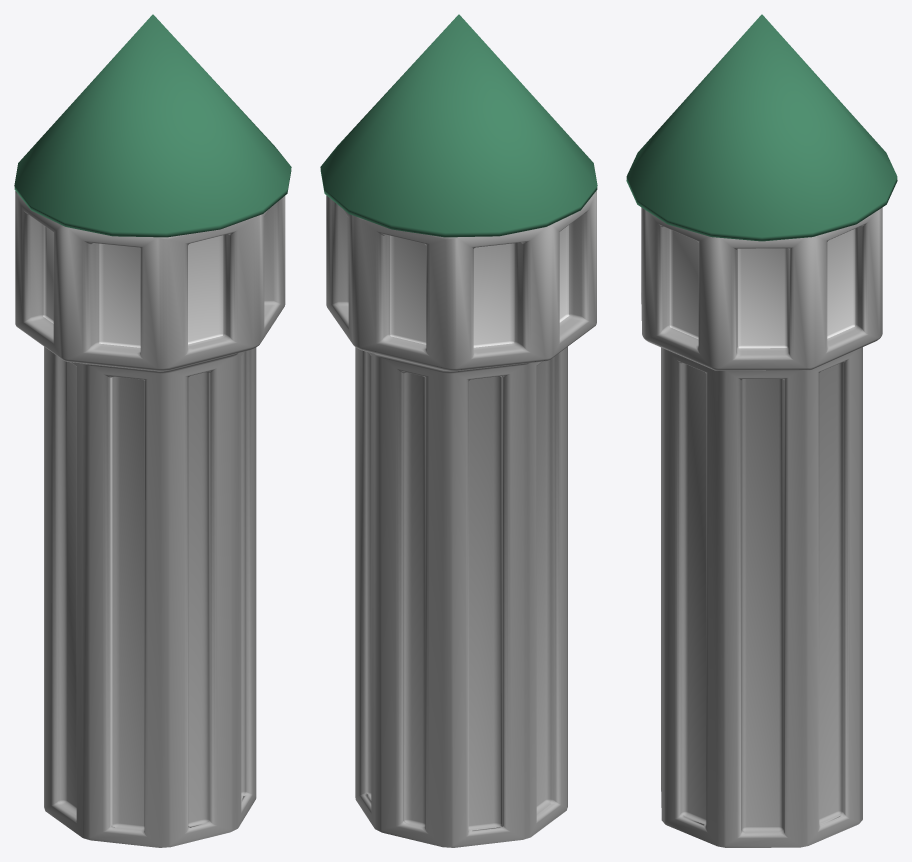
The model's file is Torre1.fbx.
The picture shows the model from 3 angles, left to right: view 1: azimuth 30°, elevation 25°; view 2: azimuth 150°, elevation 25°; view 3: azimuth 270°, elevation 25°; orthographic projection.
Visible parts, largest first — view 1: Torre delgada.005; view 2: Torre delgada.005; view 3: Torre delgada.005.
Part boxes in pixels (box(x1,y1,x2,y2)): Torre delgada.005: box(14, 14, 291, 847); Torre delgada.005: box(320, 14, 597, 847); Torre delgada.005: box(626, 14, 897, 847).
Bounding box in the file's own units: 81.44 × 263 × 85.2.
